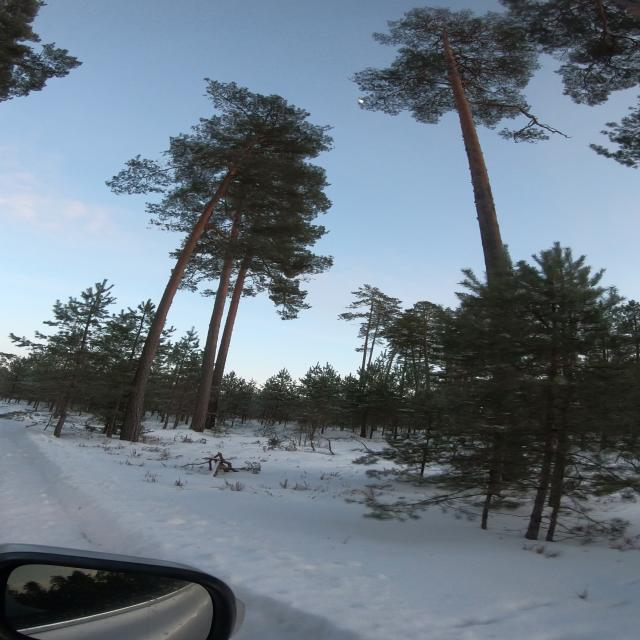trees: (123, 163, 239, 441), (442, 29, 506, 280), (191, 210, 241, 431), (206, 256, 249, 427), (339, 284, 401, 378)
